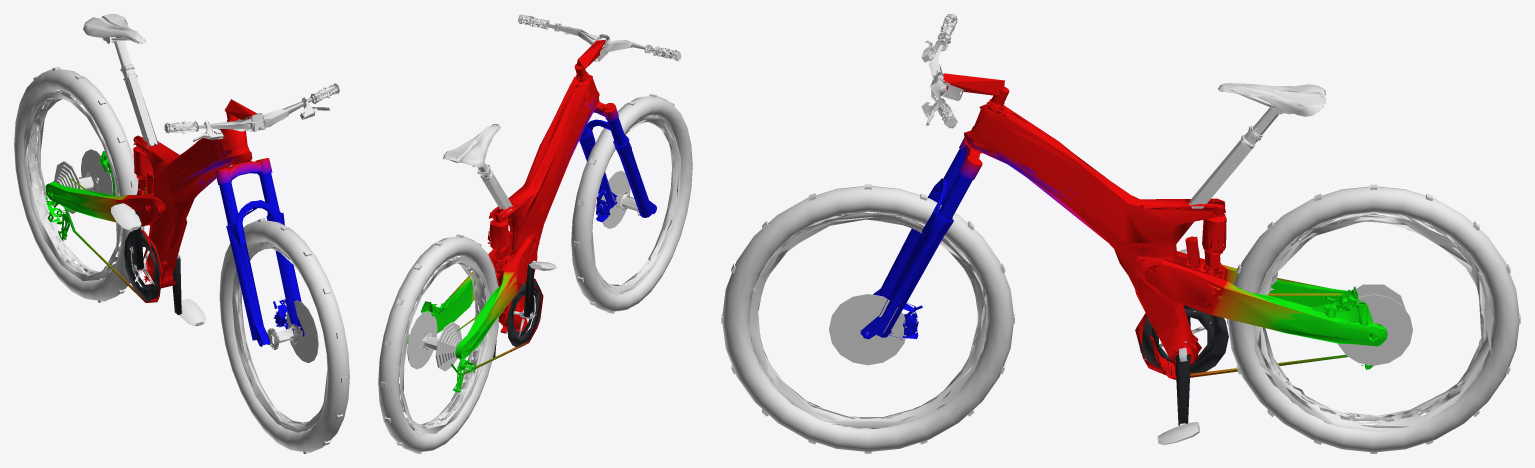
The model's file is mtb_lod1.glb.
3 views of the same model, side by side, from view 1: azimuth 30°, elevation 25°; view 2: azimuth 150°, elevation 25°; view 3: azimuth 270°, elevation 25° (orthographic). The views are drawn at different scales.
Parts seen in each view (by area): view 1: frame, wheel_rear, wheel_front, saddle, cockpit, crankset, pedal_R, pedal_L; view 2: frame, wheel_rear, wheel_front, saddle, crankset, cockpit; view 3: frame, wheel_rear, wheel_front, saddle, crankset, cockpit.
Boxes of the visible parts, x1,y1,x2,y2 form: frame: (45,99,304,346); wheel_rear: (14,67,144,302); wheel_front: (219,218,349,453); saddle: (83,14,158,148); cockpit: (164,83,339,141); crankset: (124,210,181,314); pedal_R: (111,203,141,230); pedal_L: (180,299,206,326); frame: (407,40,656,392); wheel_rear: (378,234,498,453); wheel_front: (571,94,692,313); saddle: (443,124,512,212); crankset: (493,262,541,357); cockpit: (518,14,681,61); frame: (860,73,1387,379); wheel_rear: (1227,184,1520,453); wheel_front: (721,184,1014,453); saddle: (1189,83,1326,208); crankset: (1137,305,1228,425); cockpit: (921,14,964,128).
Size of the model in its own units: 0.5589 by 0.9819 by 1.83.
